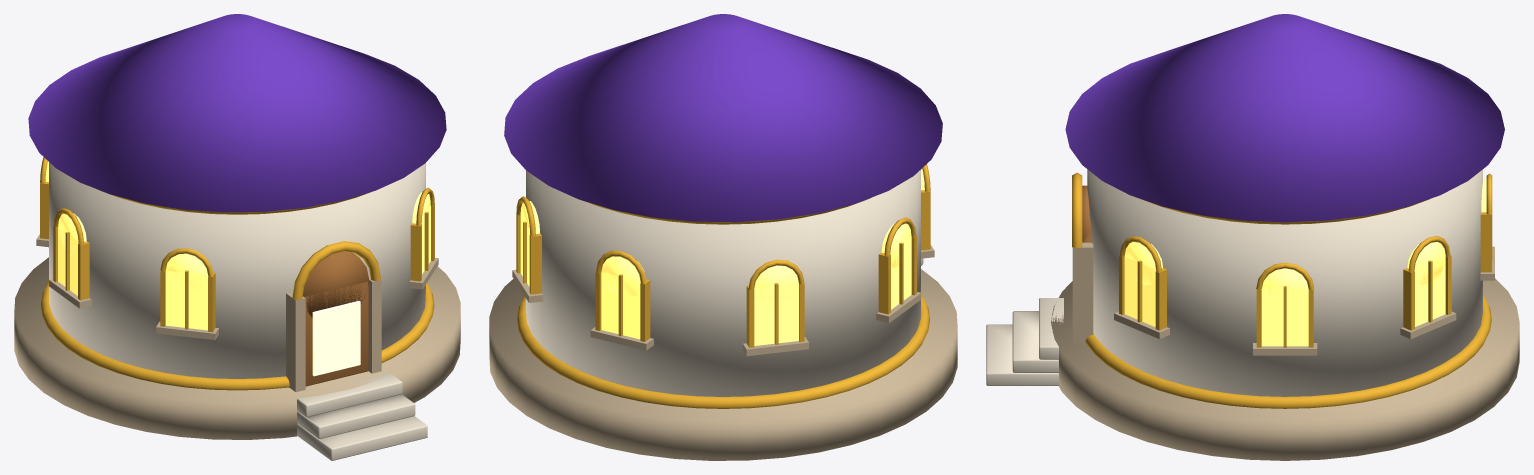
The model's file is obs_2.glb.
The picture shows the model from 3 angles, left to right: view 1: azimuth 30°, elevation 25°; view 2: azimuth 150°, elevation 25°; view 3: azimuth 270°, elevation 25°; orthographic projection. The views are drawn at different scales.
Visible parts, largest first — view 1: Obs.001; view 2: Obs.001; view 3: Obs.001.
Part boxes in pixels (<box>): Obs.001: <box>14,14,460,460</box>; Obs.001: <box>489,14,957,460</box>; Obs.001: <box>986,14,1519,460</box>.
Bounding box in the file's own units: 3.2 × 2.55 × 3.64.
